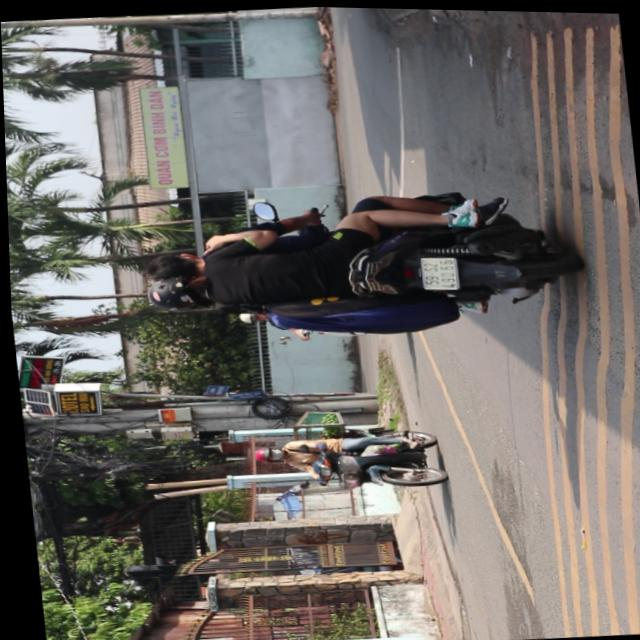helmet: (140, 276, 208, 315), (247, 446, 280, 464)
licenseplate: (125, 173, 580, 357), (243, 419, 446, 500)
motorcyclist: (138, 251, 201, 284)
nohelmet: (417, 255, 455, 288)
